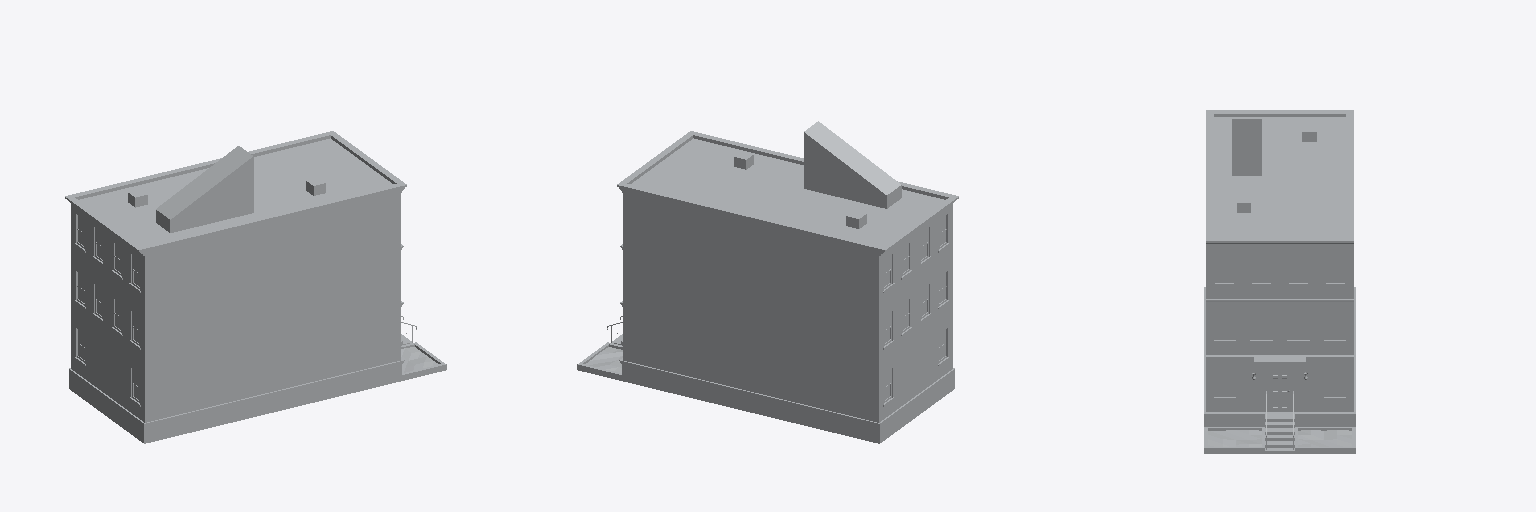
File: building2.obj
The picture shows the model from 3 angles: view 1: azimuth 30°, elevation 25°; view 2: azimuth 150°, elevation 25°; view 3: azimuth 270°, elevation 25°; orthographic projection.
Parts seen in each view (by area): view 1: box3.001, box4.001, box2.001, Untitled.001, box0.001, box7.001, box5.001, box6.001, rect.001, box1.001, rect0.001; view 2: box3.001, box2.001, box4.001, Untitled.001, box0.001, box7.001, box5.001, box6.001, rect.001, box1.001, rect0.001; view 3: box4.001, box2.001, box5.001, box7.001, box6.001, Untitled.001, rect.001, box0.001, rect0.001, poly.001, 0.001.
Boxes of the visible parts, box(x1,y1,x2,y2) form: box3.001: box(145, 190, 400, 422); box4.001: box(71, 132, 400, 422); box2.001: box(79, 138, 393, 245); Untitled.001: box(69, 361, 401, 443); box0.001: box(156, 146, 253, 232); box7.001: box(78, 216, 139, 400); box5.001: box(65, 131, 406, 406); box6.001: box(77, 215, 139, 402); rect.001: box(401, 347, 438, 372); box1.001: box(128, 178, 325, 207); rect0.001: box(401, 342, 446, 380); box3.001: box(623, 190, 878, 422); box2.001: box(630, 138, 944, 245); box4.001: box(623, 132, 952, 422); Untitled.001: box(622, 361, 954, 443); box0.001: box(804, 121, 901, 208); box7.001: box(884, 216, 945, 400); box5.001: box(617, 131, 958, 406); box6.001: box(884, 215, 946, 402); rect.001: box(585, 347, 622, 372); box1.001: box(734, 151, 866, 228); rect0.001: box(577, 342, 622, 380); box4.001: box(1206, 114, 1353, 411); box2.001: box(1214, 117, 1345, 237); box5.001: box(1204, 110, 1355, 415); box7.001: box(1217, 255, 1342, 394); box6.001: box(1215, 253, 1344, 411); Untitled.001: box(1204, 287, 1355, 426); rect.001: box(1208, 430, 1351, 446); box0.001: box(1232, 119, 1261, 175); rect0.001: box(1204, 427, 1355, 453); poly.001: box(1265, 412, 1294, 453); 0.001: box(1269, 366, 1290, 410).
Size of the model in its own units: 48.27 by 37 by 20.5.